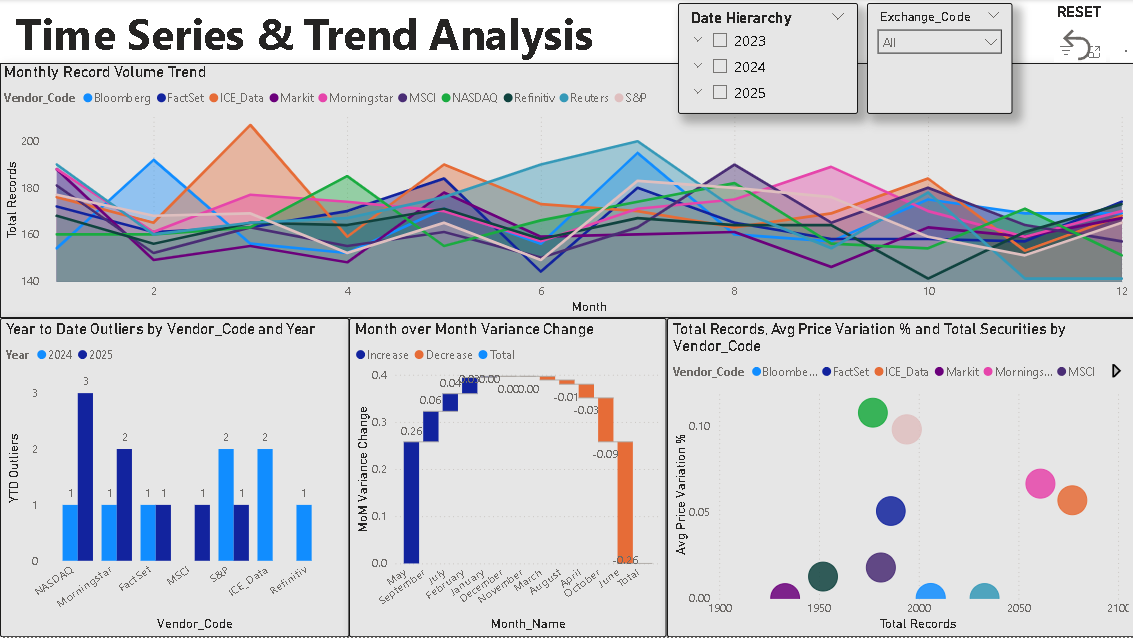

The dashboard page shown, as its layout file describes it:
{"tool":"powerbi","page":{"name":"Time Series & Trend Analysis","canvas":[1280,720],"ordinal":4},"visuals":[{"type":"textbox","box":[0,0,687.7,79.8],"z":0},{"type":"areaChart","title":"Monthly Record Volume Trend","fields":{"Category":["Dim_Date.Month"],"Y":["DAX Measures.Total Records"],"Series":["Dim_Vendor.Vendor_Code"]},"box":[0,72,1280,288.1],"z":1000},{"type":"clusteredColumnChart","title":"Year to Date Outliers by Vendor_Code and Year","fields":{"Y":["DAX Measures.YTD Outliers"],"Category":["Dim_Vendor.Vendor_Code"],"Series":["Dim_Date.Year"]},"box":[0,360.1,394.1,360.1],"z":2000},{"type":"waterfallChart","title":"Month over Month Variance Change","fields":{"Category":["Dim_Date.Month_Name"],"Y":["DAX Measures.MoM Variance Change"]},"box":[394.1,360.1,358.1,360.1],"z":3000},{"type":"scatterChart","fields":{"X":["DAX Measures.Total Records"],"Y":["DAX Measures.Avg Price Variation %"],"Series":["Dim_Vendor.Vendor_Code"],"Size":["DAX Measures.Total Securities"]},"box":[752.2,360.1,527.8,360.1],"z":4000},{"type":"slicer","fields":{"Values":["Dim_Date.Date.Variation.Date Hierarchy.Year","Dim_Date.Date.Variation.Date Hierarchy.Quarter","Dim_Date.Date.Variation.Date Hierarchy.Month"]},"box":[752.2,4.5,217.7,125.2],"z":4001},{"type":"slicer","fields":{"Values":["Fact_Price_Details.Exchange_Code"]},"box":[980,4.5,163.5,125.2],"z":4002},{"type":"actionButton","title":"RESET","box":[1165,25.9,89.1,83.5],"z":4003}]}

Visuals, with their boxes in screenshot pixels (x1, y1, x2, y2), scaled from the page's 1280x720 canvas onto the 1133x638 screenshot:
textbox: (left=0, top=0, right=609, bottom=71)
"Monthly Record Volume Trend" areaChart: (left=0, top=64, right=1132, bottom=319)
"Year to Date Outliers by Vendor_Code and Year" clusteredColumnChart: (left=0, top=319, right=349, bottom=637)
"Month over Month Variance Change" waterfallChart: (left=349, top=319, right=666, bottom=637)
scatterChart - DAX Measures.Total Records x DAX Measures.Avg Price Variation %: (left=666, top=319, right=1132, bottom=637)
slicer - Dim_Date.Date.Variation.Date Hierarchy.Year x Dim_Date.Date.Variation.Date Hierarchy.Quarter: (left=666, top=4, right=859, bottom=115)
slicer - Fact_Price_Details.Exchange_Code: (left=867, top=4, right=1012, bottom=115)
"RESET" actionButton: (left=1031, top=23, right=1110, bottom=97)
